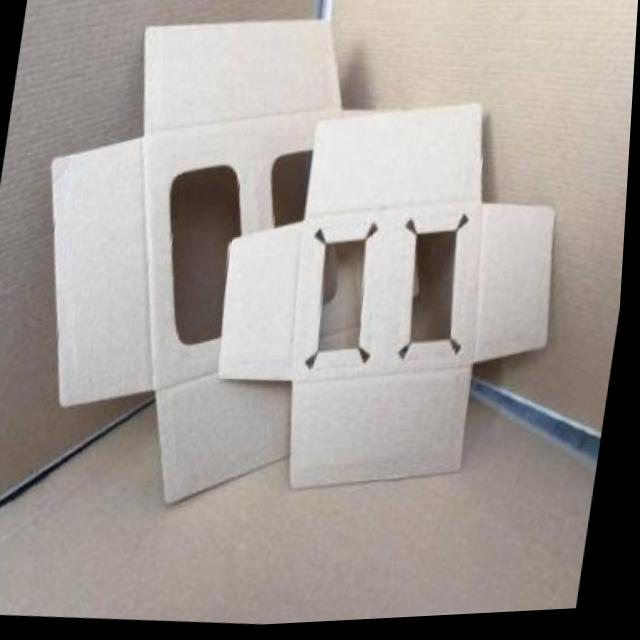box: (0, 0, 373, 544), (200, 83, 623, 522)
